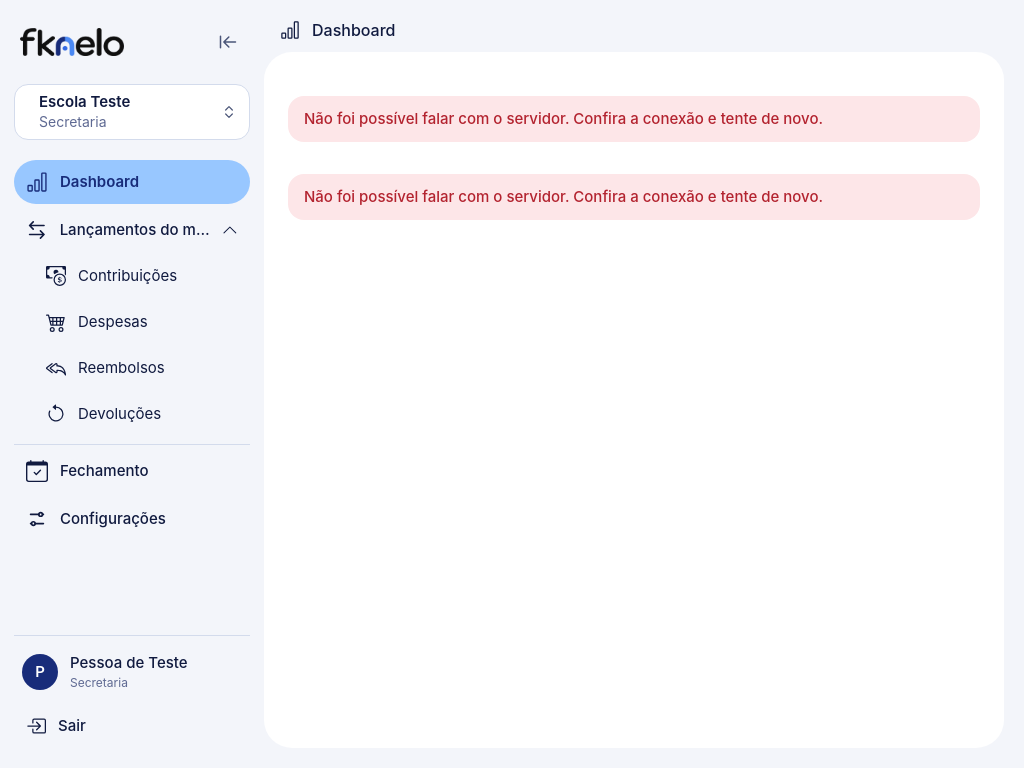
Test: menu (Figma Gestao) › o grupo 'Lançamentos do mês' abre e fecha e lista os 4 tipos de lançamento
The width and height of the screenshot is (1024, 768).
Click the button "Lançamentos do mês" at [132, 230], box [14,208,250,252]
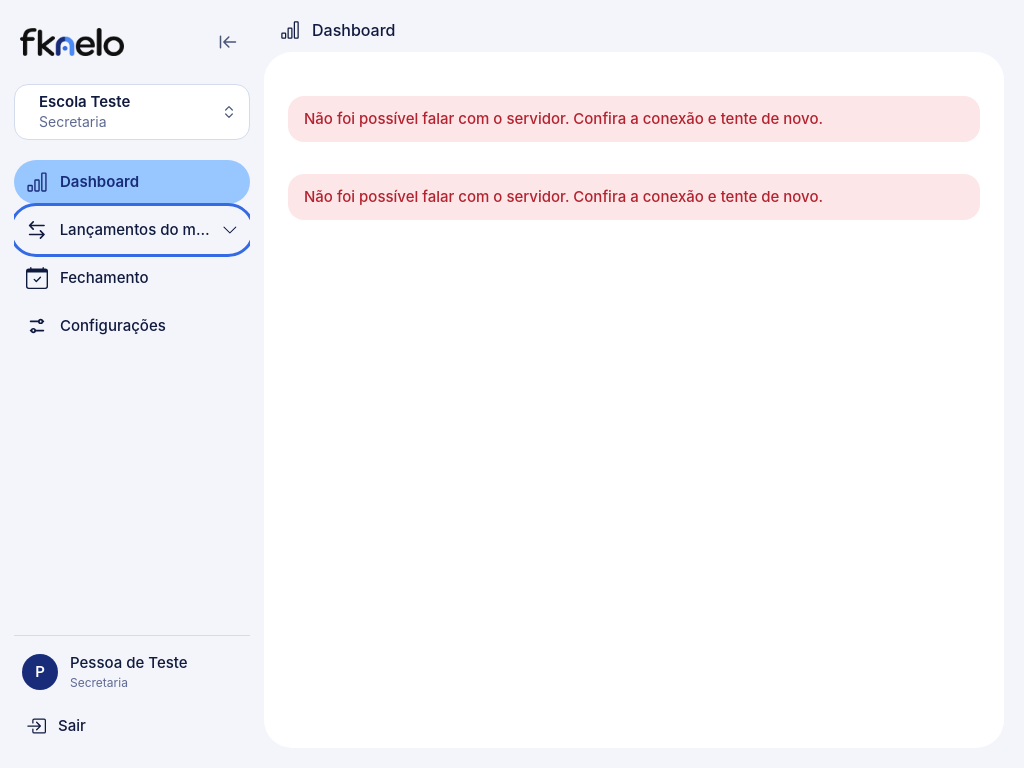
Expected: the button "Lançamentos do mês" is collapsed, [14,208,250,252]
Expected: the link "Reembolsos" is gone
